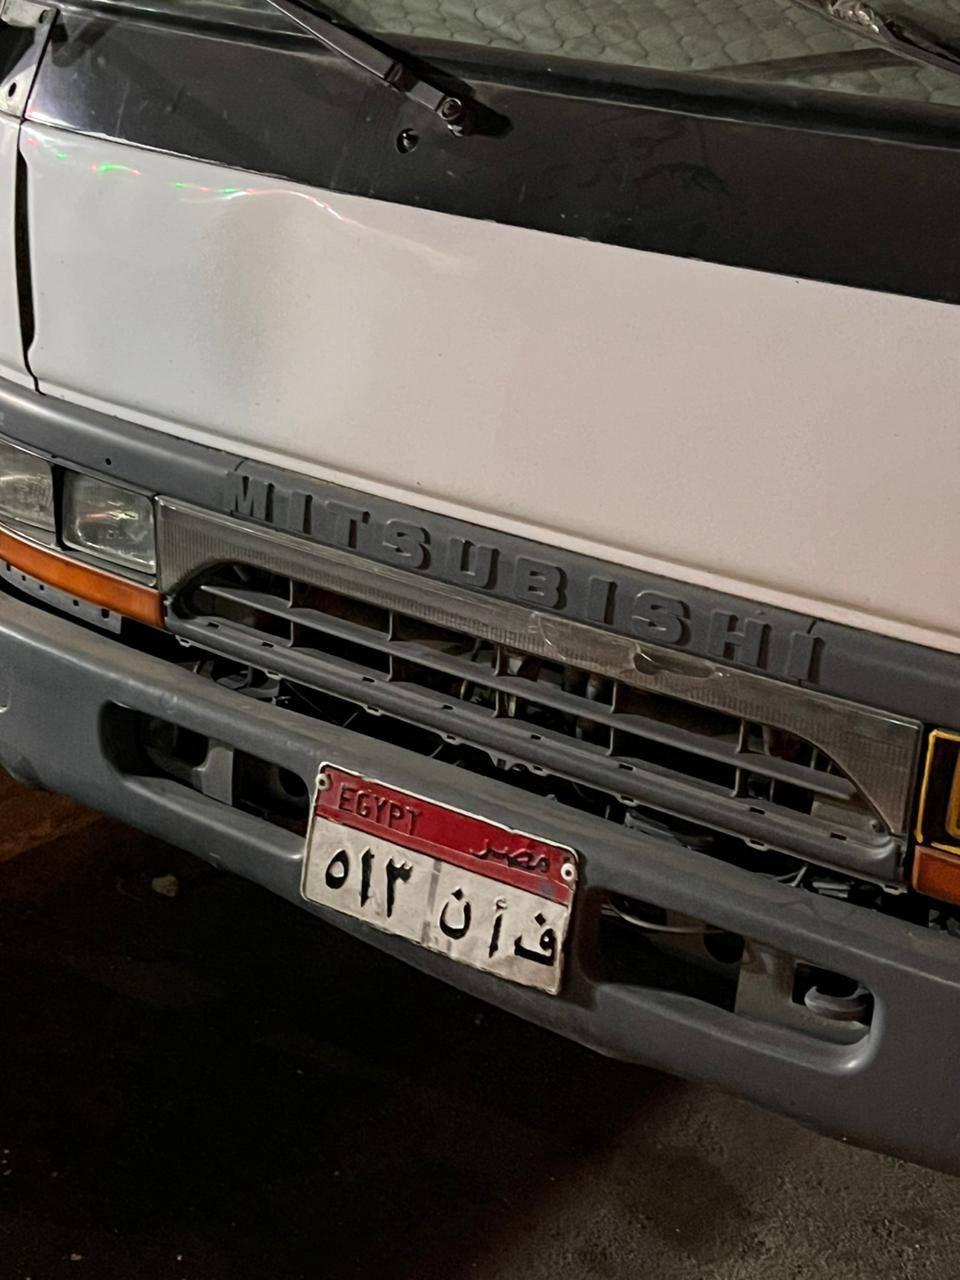1: (356, 841, 375, 909)
3: (384, 853, 412, 922)
5: (322, 844, 358, 894)
F: (511, 911, 566, 974)
License Plate: (291, 748, 583, 1007)
Noon: (423, 876, 475, 944)
alef: (484, 888, 512, 959)
